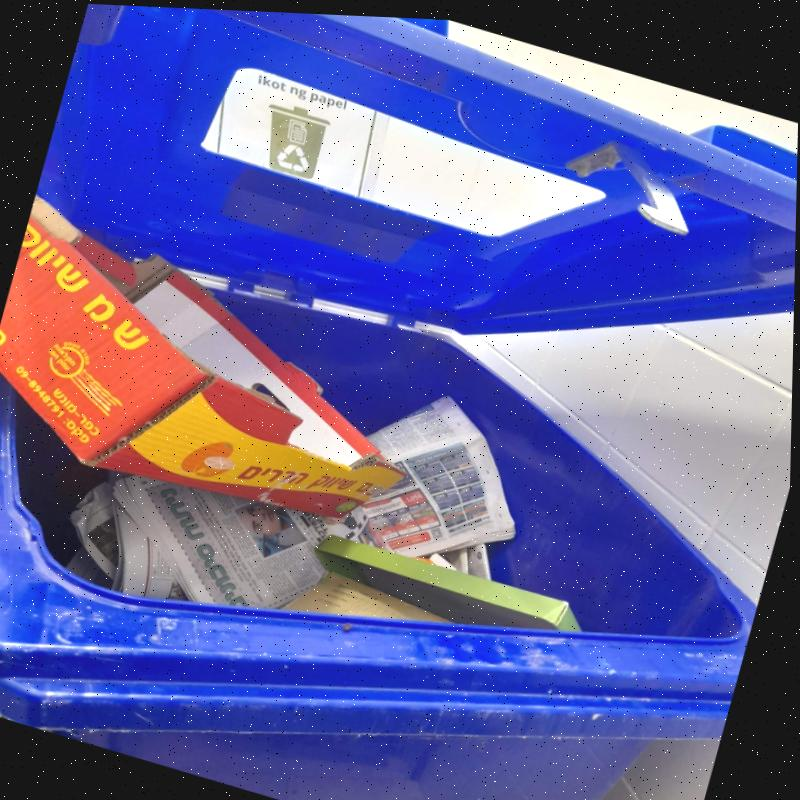cardboard: (0, 194, 404, 517), (313, 534, 581, 631)
paper: (68, 396, 515, 610)
